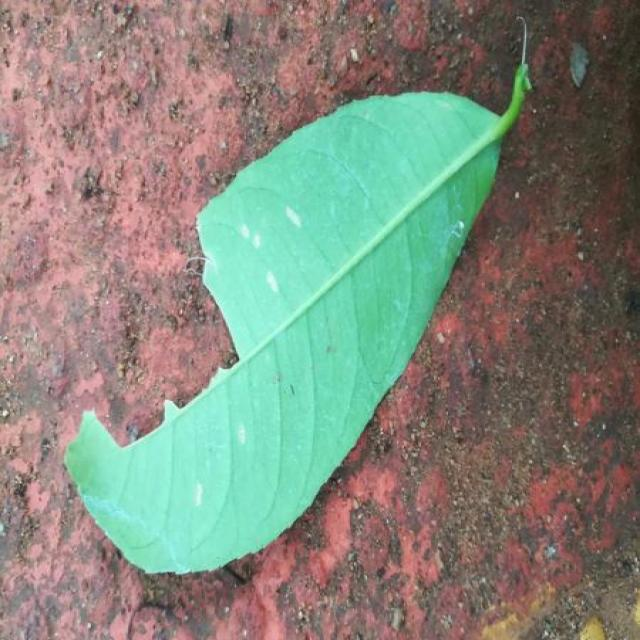badipala: (65, 39, 530, 573)
